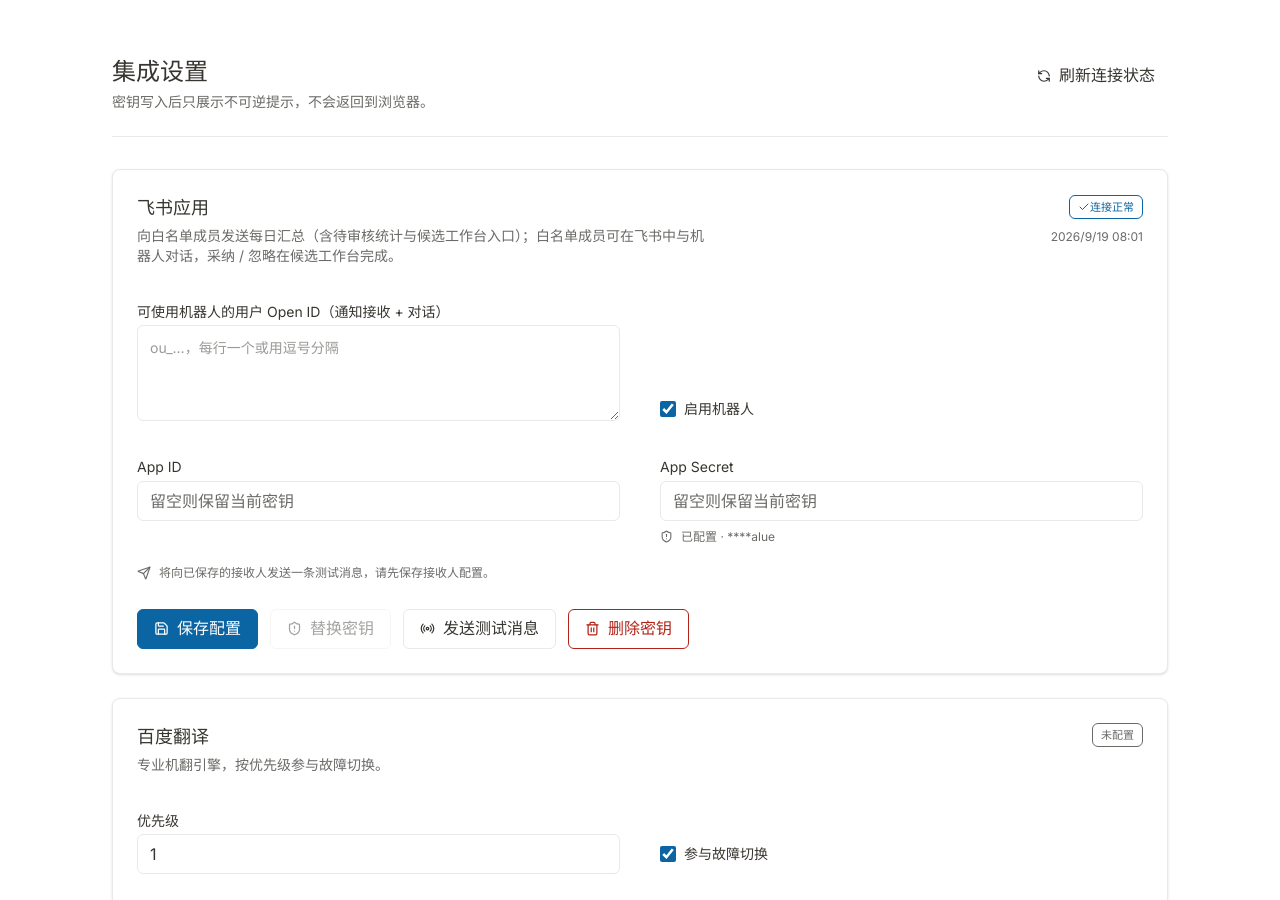
Scenario: Feishu application integration › reports empty recipients without claiming a test message was sent
Click the button with aria-label "发送飞书测试消息". click: (480, 629)
box: [403,609,556,649]
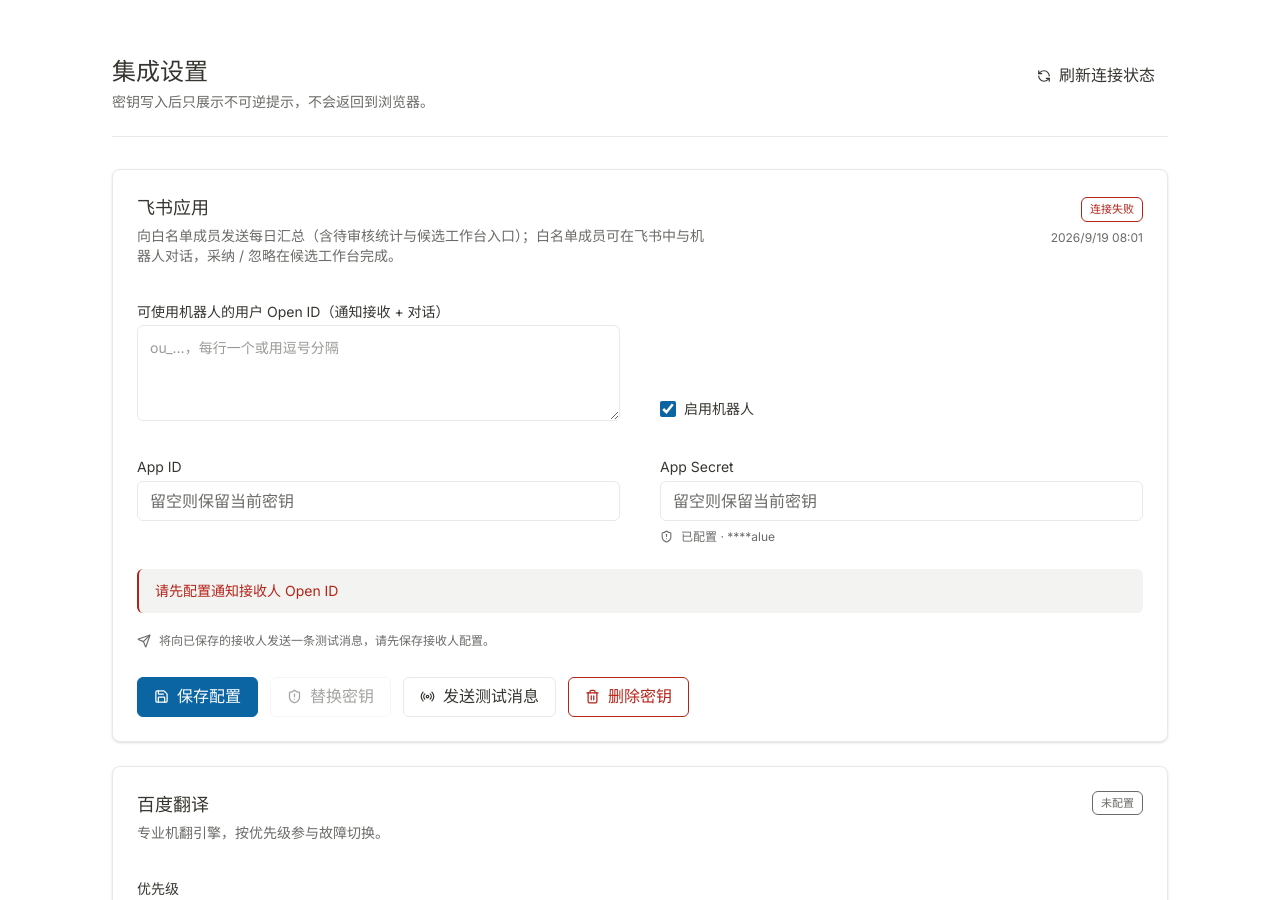
Expected: the button with aria-label "发送飞书测试消息" is enabled, [403,677,556,717]
Expected: the message reads "请先配置通知接收人 Open ID", [155,582,338,599]
